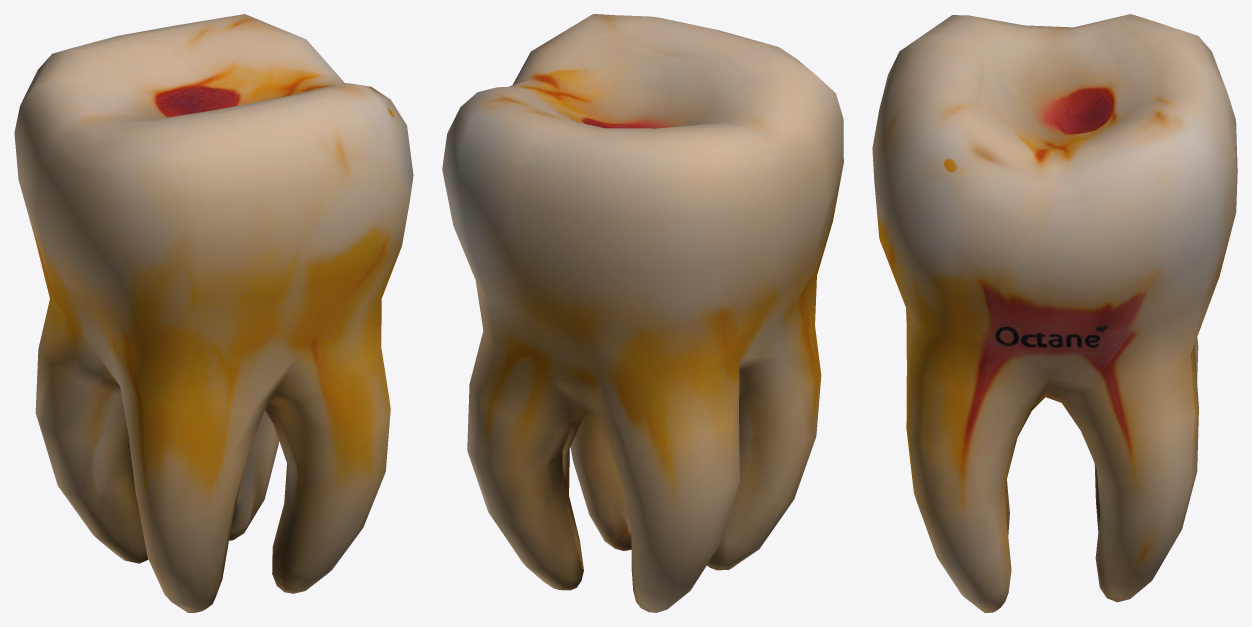
Rendered from Tooth.fbx.
3 views of the same model, side by side, from view 1: azimuth 30°, elevation 25°; view 2: azimuth 150°, elevation 25°; view 3: azimuth 270°, elevation 25° (orthographic).
Parts seen in each view (by area): view 1: tripo_node_442f80a6; view 2: tripo_node_442f80a6; view 3: tripo_node_442f80a6.
Part boxes in pixels (x1,y1,x2,y2): tripo_node_442f80a6: (14,14,413,612); tripo_node_442f80a6: (442,14,843,612); tripo_node_442f80a6: (872,14,1237,612).
Bounding box in the file's own units: 65.29 × 99.95 × 63.45.
Materials: 1 (1 with a texture image).
